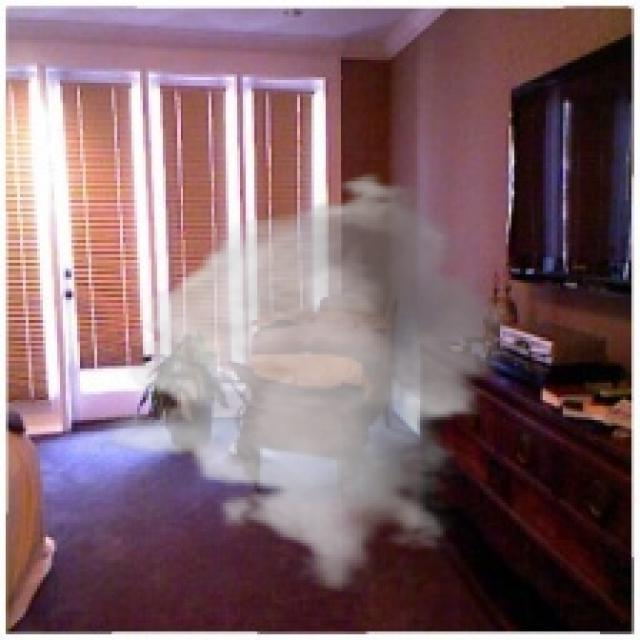Smoke: (102, 168, 528, 592)
